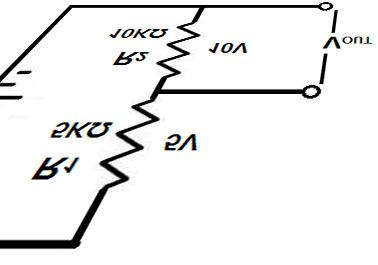resistor: (101, 101, 167, 191), (158, 11, 212, 73)
